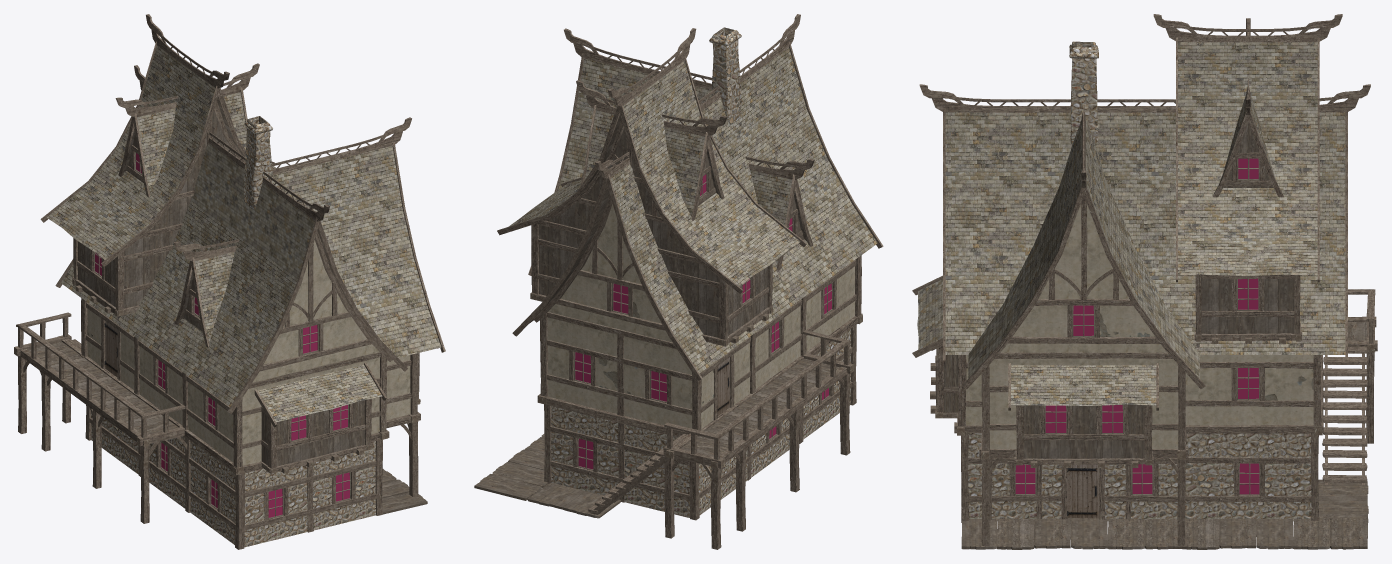
File: mw_type_2_cottage_07.FBX
3 views of the same model, side by side, from view 1: azimuth 30°, elevation 25°; view 2: azimuth 150°, elevation 25°; view 3: azimuth 270°, elevation 25° (orthographic). The views are drawn at different scales.
Visible parts, largest first — view 1: mw_type_2_cottage_building_07_roof, mw_type_2_cottage_building_07_wood, mw_type_2_cottage_building_07_stone, mw_type_2_cottage_building_07_wall, mw_type_2_cottage_building_07, mw_type_2_cottage_building_07_wood_02; view 2: mw_type_2_cottage_building_07_wood, mw_type_2_cottage_building_07_roof, mw_type_2_cottage_building_07_wall, mw_type_2_cottage_building_07_stone, mw_type_2_cottage_building_07_wood_02, mw_type_2_cottage_building_07; view 3: mw_type_2_cottage_building_07_roof, mw_type_2_cottage_building_07_wood, mw_type_2_cottage_building_07_wall, mw_type_2_cottage_building_07_stone, mw_type_2_cottage_building_07_wood_02, mw_type_2_cottage_building_07.
Part boxes in pixels (x1,y1,x2,y2): mw_type_2_cottage_building_07_roof: (47, 45, 441, 422); mw_type_2_cottage_building_07_wood: (14, 14, 445, 549); mw_type_2_cottage_building_07_stone: (91, 116, 375, 547); mw_type_2_cottage_building_07_wall: (87, 240, 410, 465); mw_type_2_cottage_building_07: (93, 152, 350, 518); mw_type_2_cottage_building_07_wood_02: (382, 469, 427, 514); mw_type_2_cottage_building_07_wood: (497, 14, 883, 549); mw_type_2_cottage_building_07_roof: (508, 47, 877, 373); mw_type_2_cottage_building_07_wall: (547, 204, 855, 428); mw_type_2_cottage_building_07_stone: (551, 27, 850, 517); mw_type_2_cottage_building_07_wood_02: (474, 434, 620, 518); mw_type_2_cottage_building_07: (574, 173, 832, 470); mw_type_2_cottage_building_07_roof: (917, 42, 1345, 406); mw_type_2_cottage_building_07_wood: (912, 14, 1377, 545); mw_type_2_cottage_building_07_wall: (966, 204, 1313, 448); mw_type_2_cottage_building_07_stone: (968, 41, 1311, 521); mw_type_2_cottage_building_07_wood_02: (961, 479, 1368, 549); mw_type_2_cottage_building_07: (1014, 158, 1260, 518).
Size of the model in its own units: 1553 by 2172 by 1959.
